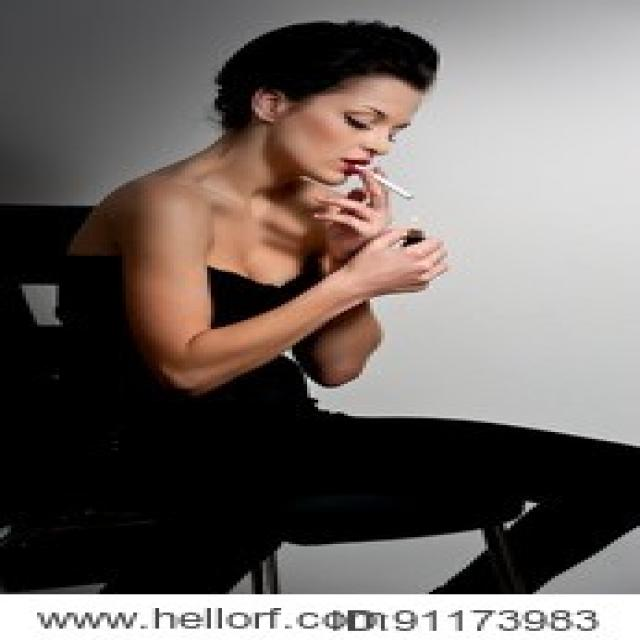cigarette: (383, 181, 419, 208)
